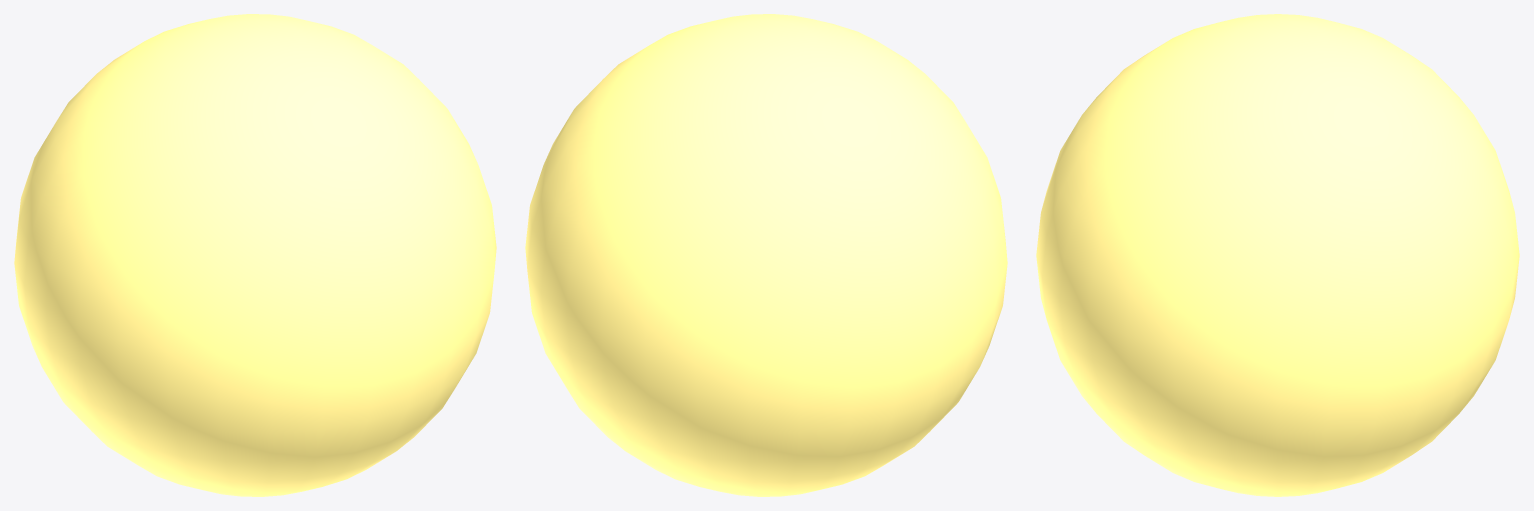
File: Orb_03_明黄灵珠.glb
The picture shows the model from 3 angles, left to right: view 1: azimuth 30°, elevation 25°; view 2: azimuth 150°, elevation 25°; view 3: azimuth 270°, elevation 25°; orthographic projection.
Parts seen in each view (by area): view 1: Sphere; view 2: Sphere; view 3: Sphere.
Boxes of the visible parts, x1=… form: Sphere: x1=14, y1=14, x2=496, y2=496; Sphere: x1=525, y1=14, x2=1007, y2=496; Sphere: x1=1036, y1=14, x2=1519, y2=496.
Size of the model in its own units: 0.96 by 0.96 by 0.96.
